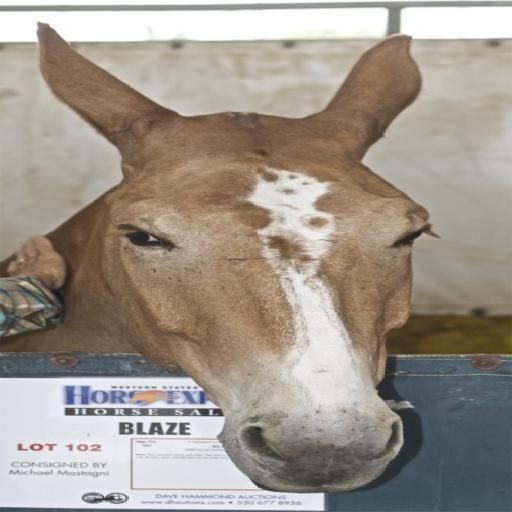horse: (0, 20, 445, 496)
